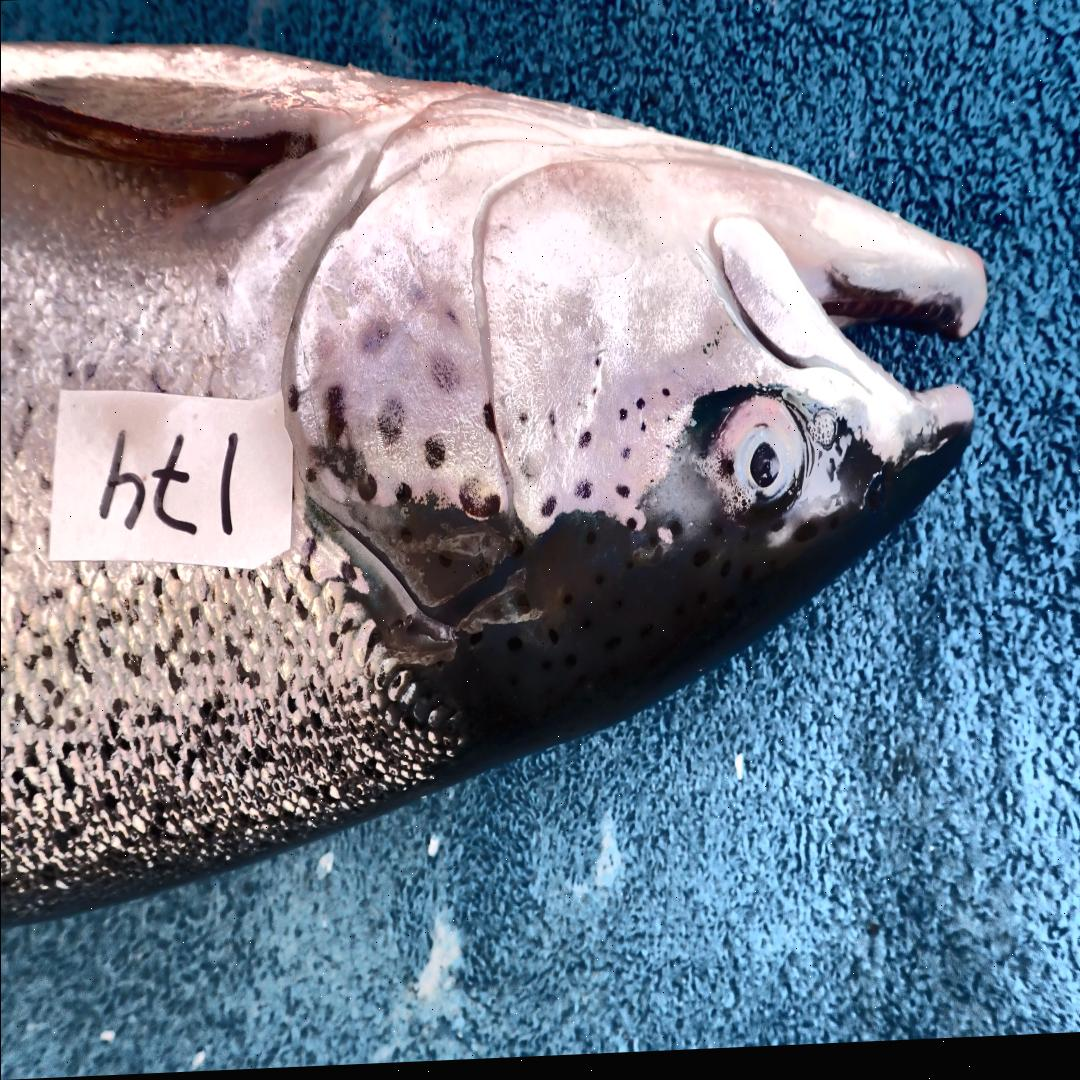spot: (457, 484, 499, 525), (308, 447, 354, 484), (359, 318, 392, 359), (324, 387, 346, 445), (376, 402, 403, 449), (431, 363, 460, 398), (425, 439, 444, 474), (357, 473, 376, 506), (519, 459, 543, 485), (405, 282, 422, 311), (481, 408, 495, 437), (287, 386, 300, 415), (394, 487, 411, 507), (573, 486, 591, 504), (541, 502, 556, 523), (547, 411, 556, 444), (578, 436, 591, 454), (444, 313, 457, 327), (516, 415, 527, 430), (304, 469, 315, 484), (615, 491, 628, 502), (626, 522, 637, 534), (619, 453, 630, 464), (619, 412, 626, 427), (635, 403, 643, 414), (589, 390, 597, 401), (639, 426, 646, 438), (661, 393, 670, 402), (594, 363, 600, 372), (665, 421, 671, 427)
